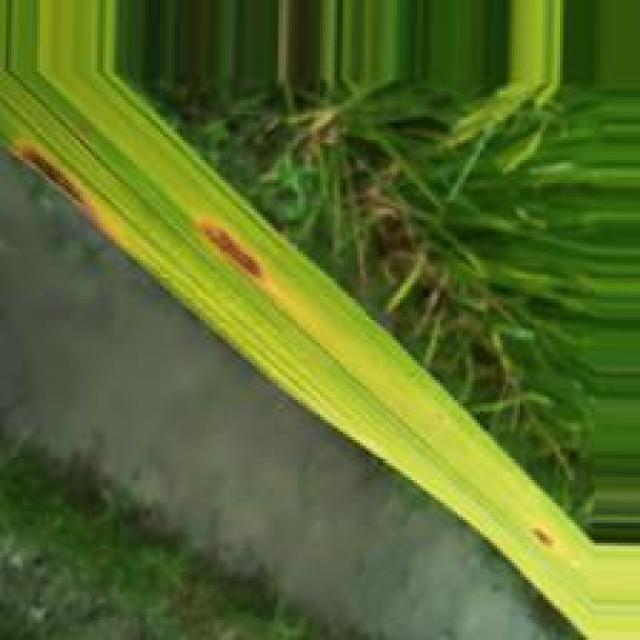Narrow_Brown_Leaf_Spot: (0, 133, 148, 272), (182, 210, 318, 326), (526, 526, 557, 552)
